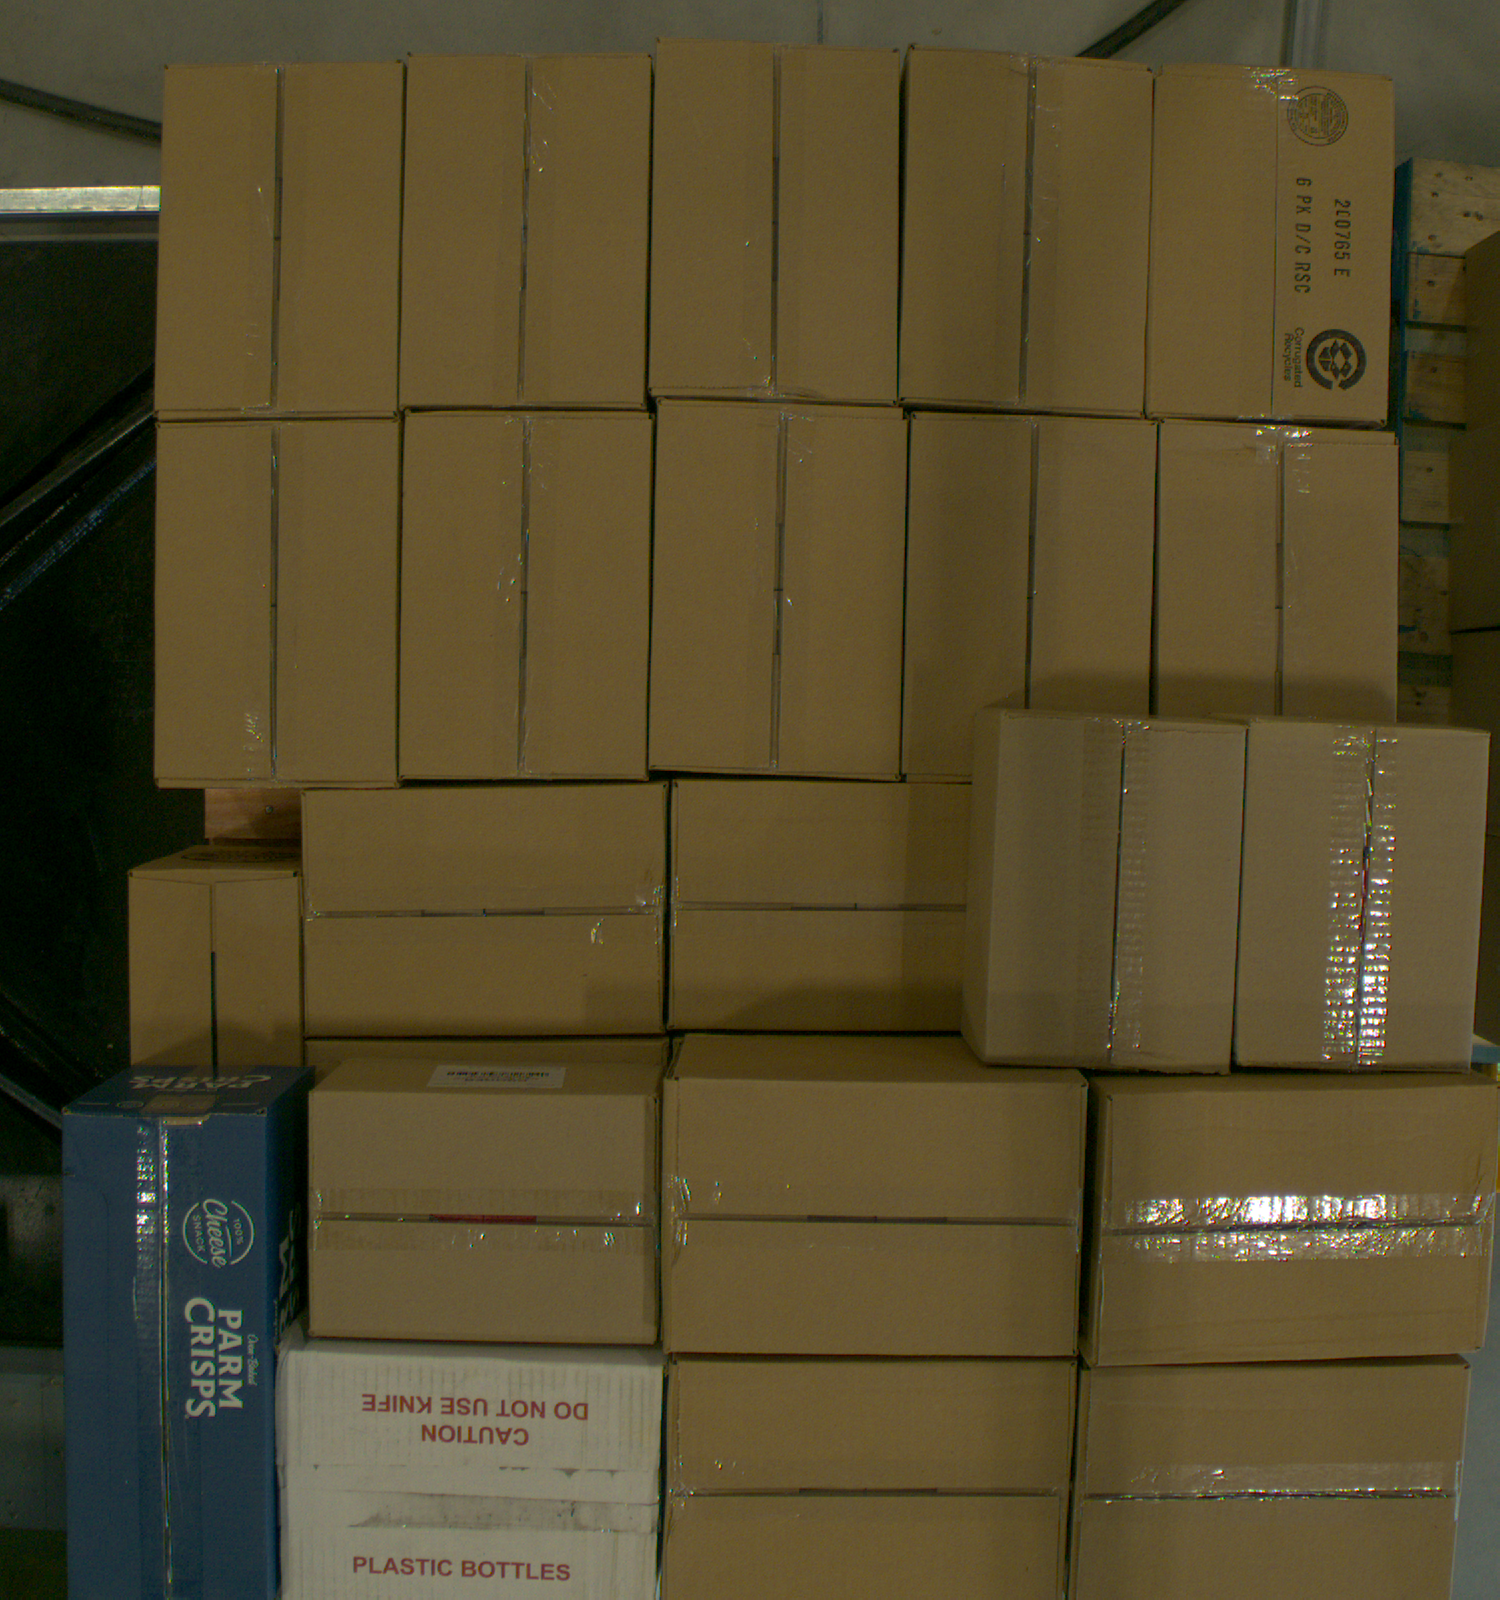box top: (664, 1078, 1088, 1355), (1097, 1083, 1500, 1367), (62, 1129, 273, 1600), (651, 399, 909, 781), (663, 1363, 1078, 1600), (276, 1350, 663, 1600), (1069, 1365, 1473, 1600), (985, 713, 1246, 1076), (899, 47, 1153, 419), (400, 412, 654, 781), (904, 414, 1157, 782), (305, 785, 667, 1038), (650, 38, 899, 403), (154, 59, 405, 419), (400, 52, 653, 407), (1148, 63, 1394, 426), (158, 419, 400, 787), (1239, 722, 1492, 1071), (309, 1093, 660, 1343), (670, 780, 971, 1030), (1159, 421, 1398, 723), (130, 873, 302, 1081)
